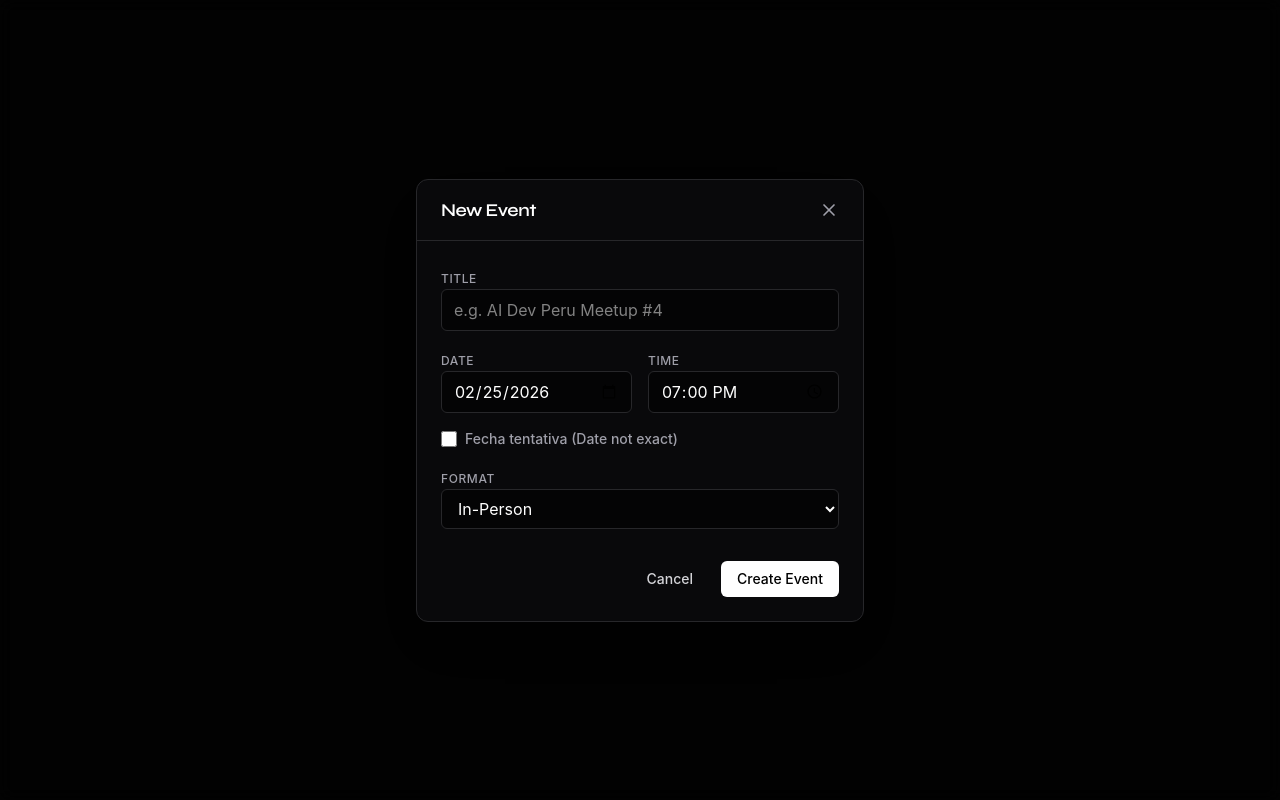
Test: CreateEventModal › should disable time input when "Fecha tentativa" is checked
Expected: the time field labelled "Time" is enabled, [648, 370, 839, 412]
Note: Check checkbox
Step 1. Click the checkbox labelled "Fecha tentativa (Date not exact)" → click(449, 438), box [441, 430, 457, 446]
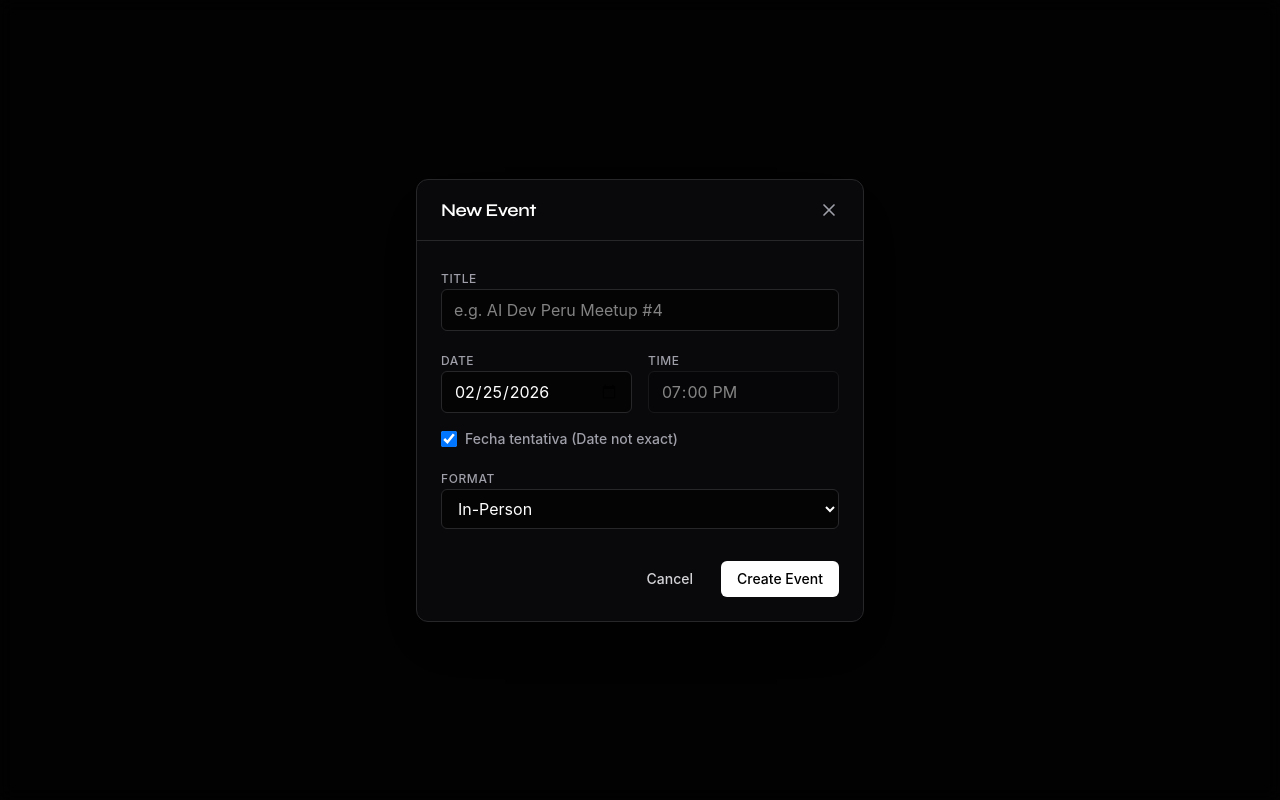
Expected: the time field labelled "Time" is disabled, [648, 370, 839, 412]
